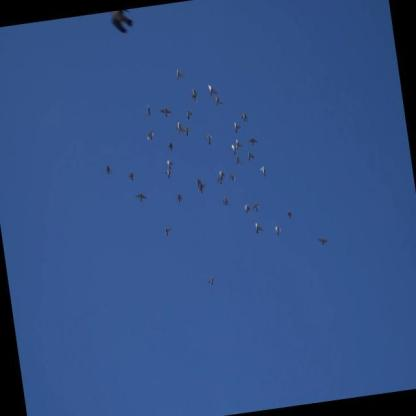bird: (108, 10, 136, 38), (190, 85, 201, 105), (159, 105, 173, 119), (247, 135, 260, 150), (135, 191, 148, 204), (208, 82, 219, 97), (196, 182, 208, 195), (316, 235, 329, 247), (254, 220, 264, 235), (175, 120, 184, 136), (174, 68, 185, 81), (144, 102, 152, 119), (183, 123, 191, 140), (235, 137, 243, 154), (214, 95, 224, 108), (146, 129, 156, 142), (163, 226, 174, 237), (240, 110, 249, 123), (233, 120, 242, 133), (128, 171, 137, 184), (274, 224, 283, 237), (207, 275, 216, 287), (205, 134, 213, 147), (230, 143, 238, 156), (105, 163, 113, 176), (166, 157, 174, 170), (247, 151, 255, 164), (196, 176, 204, 189), (222, 195, 230, 208), (252, 202, 260, 215), (186, 108, 195, 119), (164, 169, 173, 180), (260, 165, 267, 179), (235, 154, 243, 166), (243, 203, 251, 215), (218, 168, 225, 181), (286, 208, 293, 221), (216, 176, 224, 186), (230, 172, 237, 183), (176, 193, 183, 204), (168, 142, 174, 152)
